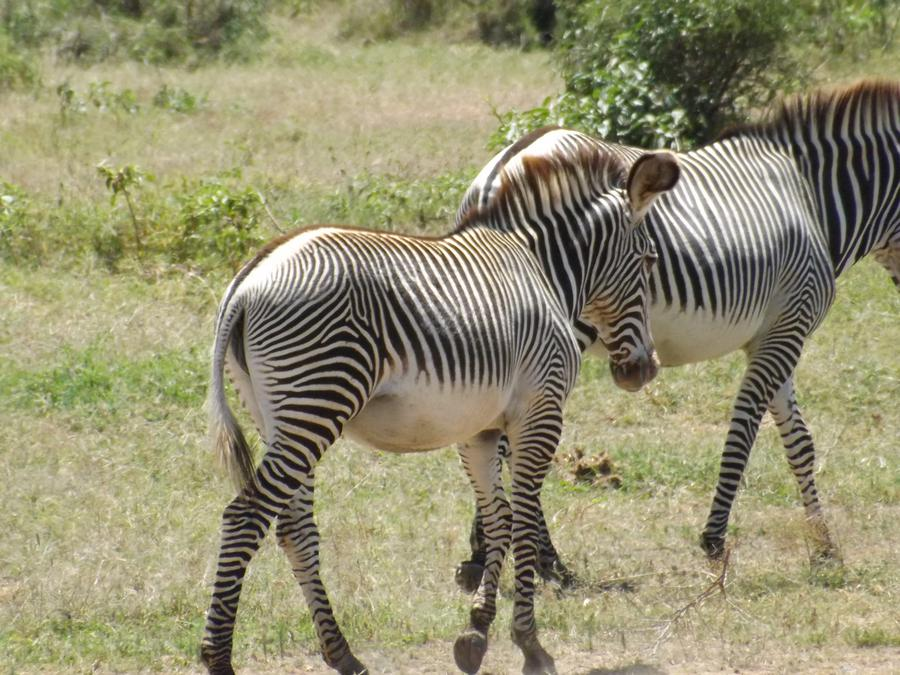zebra_grevys: (218, 213, 566, 420)
